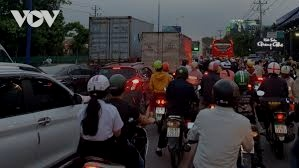Bien-so: (173, 134, 187, 144), (281, 135, 294, 145), (162, 111, 172, 120)
